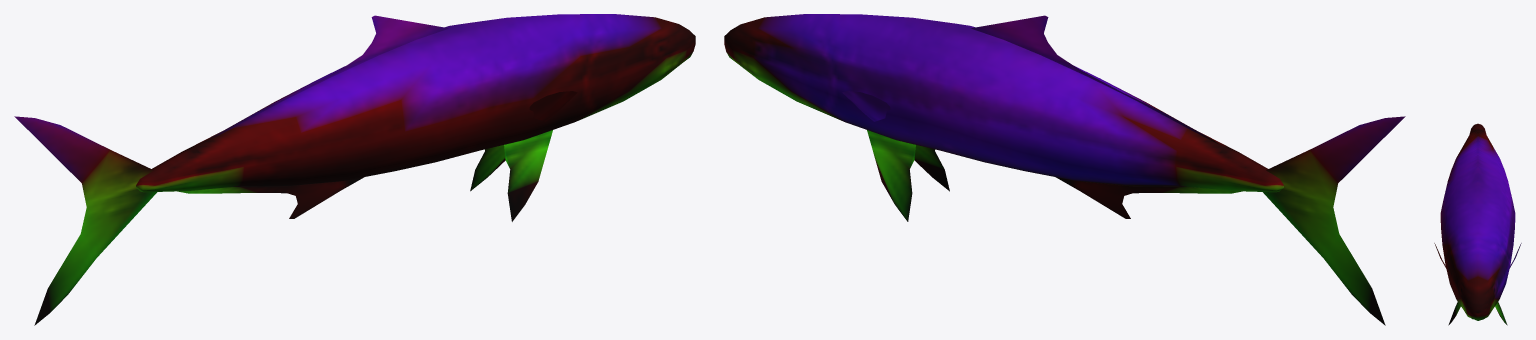
The model's file is yellowtail_amberjack.glb.
The picture shows the model from 3 angles, left to right: view 1: azimuth 30°, elevation 25°; view 2: azimuth 150°, elevation 25°; view 3: azimuth 270°, elevation 25°; orthographic projection. The views are drawn at different scales.
Visible parts, largest first — view 1: YellowtailAmberjack; view 2: YellowtailAmberjack; view 3: YellowtailAmberjack.
Part boxes in pixels (bbox=[...]): YellowtailAmberjack: bbox=[14, 14, 695, 325]; YellowtailAmberjack: bbox=[724, 14, 1405, 325]; YellowtailAmberjack: bbox=[1434, 123, 1521, 325].
Size of the model in its own units: 1 by 0.3188 by 0.157.
Materials: 1 (1 with a texture image).
